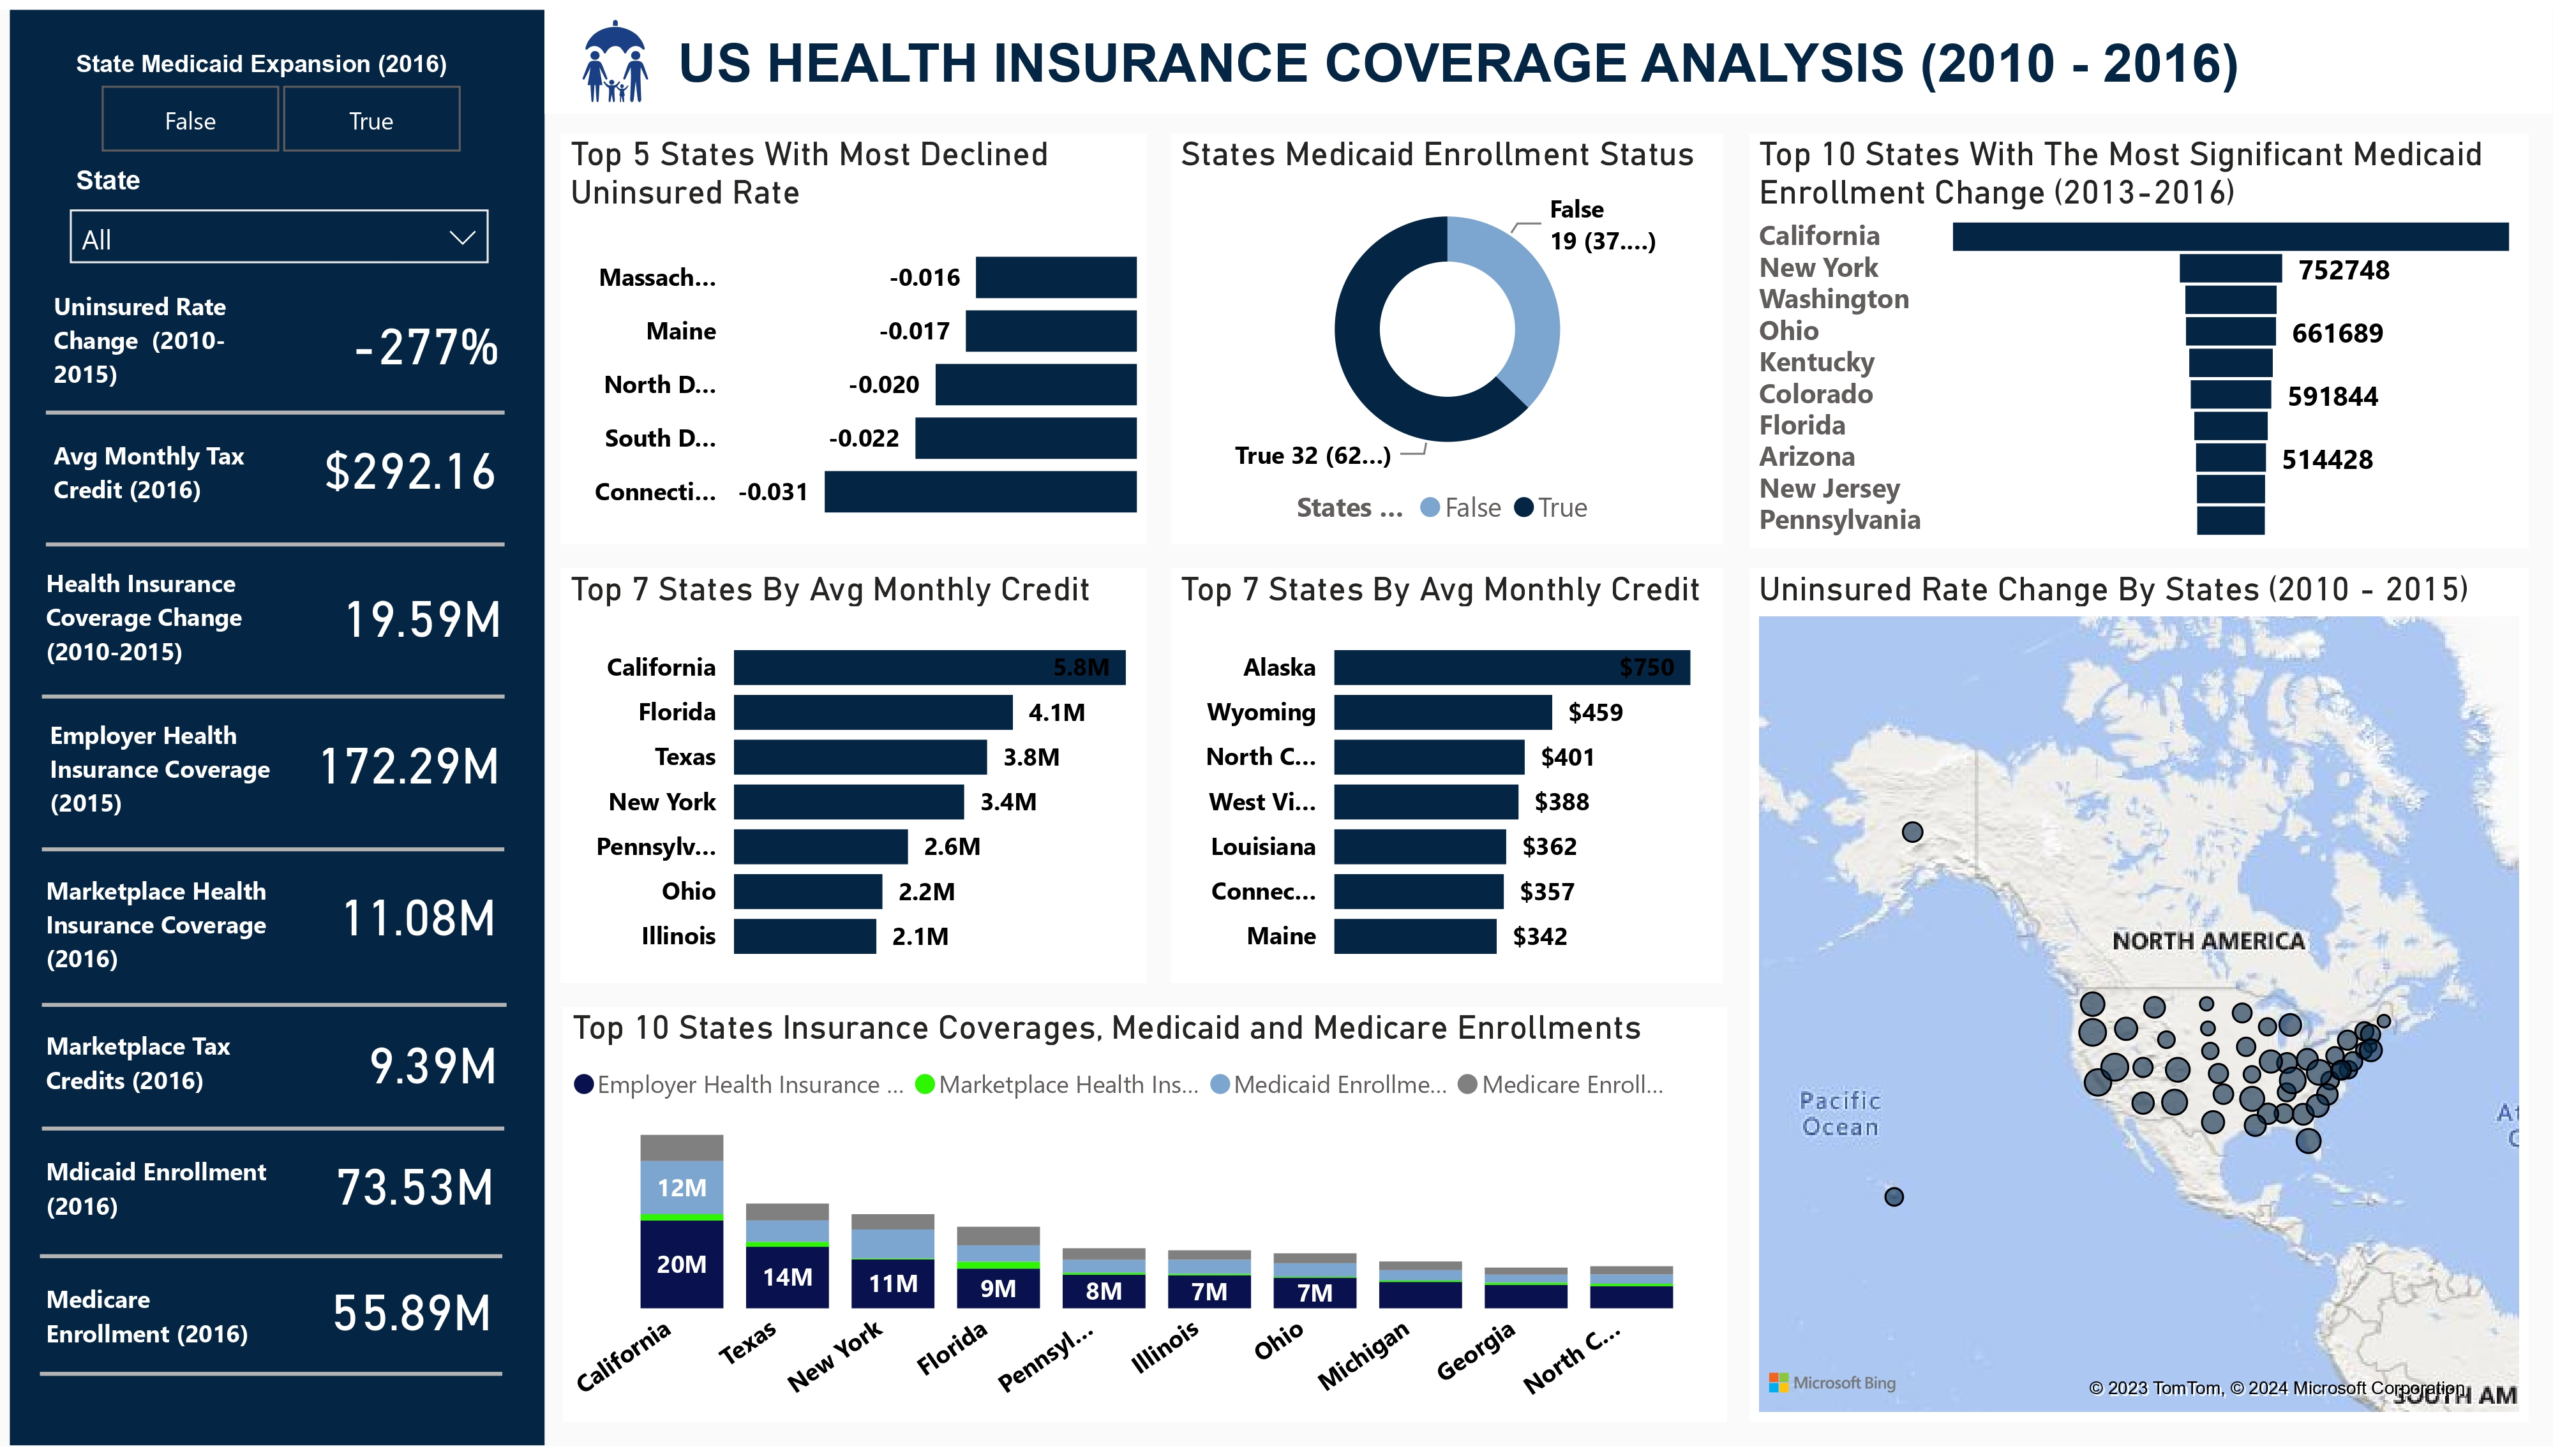

This screenshot's page, from the dashboard's own definition file:
{"tool":"powerbi","page":{"name":"REPORT 2","canvas":[1280,720],"ordinal":1},"visuals":[{"type":"shape","box":[5,0,268.4,719.7],"z":0},{"type":"card","fields":{"Values":["DAX.Avg Average Monthly Tax Credit (2016)"]},"box":[137.5,191.3,137.5,78],"z":1000},{"type":"card","fields":{"Values":["DAX.Formatted Health Insurance Coverage Change (2010-2015)"]},"box":[141.7,263.6,138.9,80.8],"z":2000},{"type":"card","fields":{"Values":["DAX.FORMATTED Employee Health Insurance Coverage (2015)"]},"box":[127.6,338.7,153.1,78],"z":3000},{"type":"card","fields":{"Values":["DAX.Formatted Marketplace Health Insurance Coverage (2016)"]},"box":[140.3,415.3,138.9,78],"z":4000},{"type":"shape","box":[23.3,249.6,230.4,36],"z":5000},{"type":"card","fields":{"Values":["DAX.Formatted Marketplace Tax Credit (2016)"]},"box":[146,487.6,141.7,80.8],"z":6000},{"type":"shape","box":[21.3,323.1,232.4,42.5],"z":7000},{"type":"shape","box":[21.3,399.9,231.8,41.8],"z":8000},{"type":"shape","box":[23.3,181.5,230.4,41.8],"z":9000},{"type":"shape","box":[21.3,477.6,233.3,41.8],"z":10000},{"type":"card","fields":{"Values":["DAX.Formatted Uninsured Rate Change (2010-2016)"]},"box":[144.6,127.6,136.1,79.4],"z":11000},{"type":"card","fields":{"Values":["DAX.Medicaid Enrollment (2016)"]},"box":[137.5,549.9,141.6,78.4],"z":12000},{"type":"textbox","box":[21.8,209.3,109.4,66.2],"z":13000},{"type":"textbox","box":[18.4,273.1,125.3,79.2],"z":14000},{"type":"textbox","box":[19.8,349.5,125.3,79.2],"z":15000},{"type":"textbox","box":[18.4,426.6,124.7,79.4],"z":16000},{"type":"textbox","box":[21.8,134,109.4,63.4],"z":17000},{"type":"textbox","box":[18.4,504.6,124.7,73.7],"z":18000},{"type":"shape","box":[21.3,540.3,231.8,41.8],"z":19000},{"type":"textbox","box":[18.4,568.4,125.3,60.5],"z":20000},{"type":"shape","box":[19.9,604.4,231.8,41.8],"z":21000},{"type":"card","fields":{"Values":["DAX.Medicare Enrollment (2016)"]},"box":[134.7,613.2,141.6,78.4],"z":22000},{"type":"textbox","box":[18.4,632.1,124.7,59.5],"z":23000},{"type":"shape","box":[19.9,663.3,231.8,41.8],"z":24000},{"type":"map","title":"Uninsured Rate Change By States (2010 - 2015)","fields":{"Category":["states.State"],"Size":["Sum(states.Uninsured Rate Change (2010-2015))"]},"box":[853.3,60.5,414.9,645],"z":25000},{"type":"barChart","title":"Top 10 States By Insurance Coverages, Medicaid and Medicare Enrollments (2015-2016)","fields":{"Category":["states.State"],"Y":["Sum(states.Employer Health Insurance Coverage (2015))","Sum(states.Marketplace Health Insurance Coverage (2016))","Sum(states.Medicaid Enrollment (2016))","Sum(states.Medicare Enrollment (2016))"]},"box":[282.2,60.5,556,645],"z":26000},{"type":"slicer","fields":{"Values":["states.State"]},"box":[24.7,72.9,229.6,64.6],"z":27000},{"type":"slicer","fields":{"Values":["states.State Medicaid Expansion (2016)"]},"box":[24.7,15.1,229.6,63.2],"z":28000},{"type":"shape","box":[273.4,0,1006.6,52],"z":29000},{"type":"textbox","box":[334.5,7.3,837.8,50.9],"z":30000},{"type":"image","box":[273.5,0,69.8,50.9],"z":31000},{"type":"actionButton","box":[1153.7,7.1,114.8,39.7],"z":33000}]}

Visuals, with their boxes in screenshot pixels (x1, y1, x2, y2), scaled from the page's 1280x720 canvas onto the 2553x1456 screenshot:
shape: <region>10, 0, 545, 1455</region>
card - DAX.Avg Average Monthly Tax Credit (2016): <region>274, 387, 548, 545</region>
card - DAX.Formatted Health Insurance Coverage Change (2010-2015): <region>283, 533, 560, 697</region>
card - DAX.FORMATTED Employee Health Insurance Coverage (2015): <region>255, 685, 560, 843</region>
card - DAX.Formatted Marketplace Health Insurance Coverage (2016): <region>280, 840, 557, 997</region>
shape: <region>47, 505, 506, 577</region>
card - DAX.Formatted Marketplace Tax Credit (2016): <region>291, 986, 574, 1150</region>
shape: <region>43, 653, 506, 739</region>
shape: <region>43, 808, 505, 893</region>
shape: <region>47, 367, 506, 452</region>
shape: <region>43, 966, 508, 1050</region>
card - DAX.Formatted Uninsured Rate Change (2010-2016): <region>288, 258, 560, 419</region>
card - DAX.Medicaid Enrollment (2016): <region>274, 1112, 557, 1270</region>
textbox: <region>43, 423, 262, 557</region>
textbox: <region>36, 553, 287, 713</region>
textbox: <region>40, 707, 289, 867</region>
textbox: <region>36, 863, 285, 1023</region>
textbox: <region>43, 271, 262, 399</region>
textbox: <region>36, 1020, 285, 1170</region>
shape: <region>43, 1092, 505, 1177</region>
textbox: <region>36, 1150, 287, 1272</region>
shape: <region>40, 1222, 502, 1307</region>
card - DAX.Medicare Enrollment (2016): <region>269, 1240, 551, 1399</region>
textbox: <region>36, 1278, 285, 1399</region>
shape: <region>40, 1341, 502, 1426</region>
"Uninsured Rate Change By States (2010 - 2015)" map: <region>1702, 123, 2529, 1427</region>
"Top 10 States By Insurance Coverages, Medicaid and Medicare Enrollments (2015-2016)" barChart: <region>563, 123, 1672, 1427</region>
slicer - states.State: <region>49, 147, 507, 278</region>
slicer - states.State Medicaid Expansion (2016): <region>49, 31, 507, 158</region>
shape: <region>545, 0, 2552, 105</region>
textbox: <region>667, 15, 2338, 117</region>
image: <region>546, 0, 685, 103</region>
actionButton: <region>2301, 15, 2530, 94</region>
